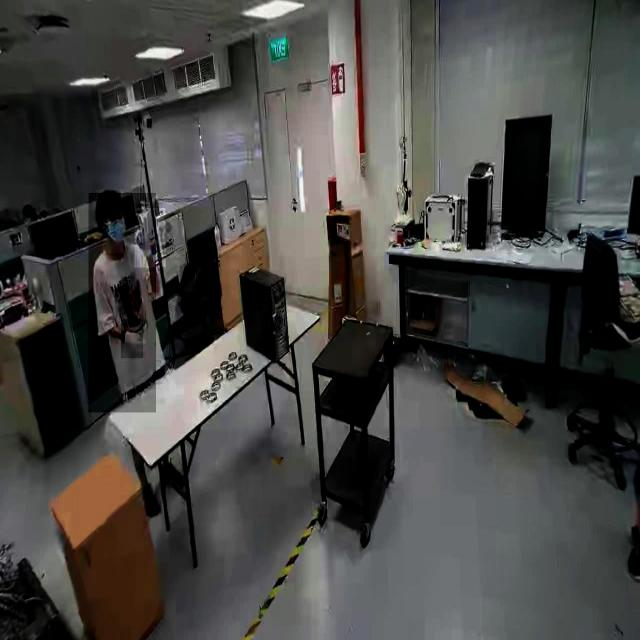face_mask: (103, 209, 125, 253)
hand_glove: (134, 208, 166, 268), (121, 319, 143, 359)
head_nohelmet: (95, 189, 123, 210)
person: (88, 193, 156, 413)
